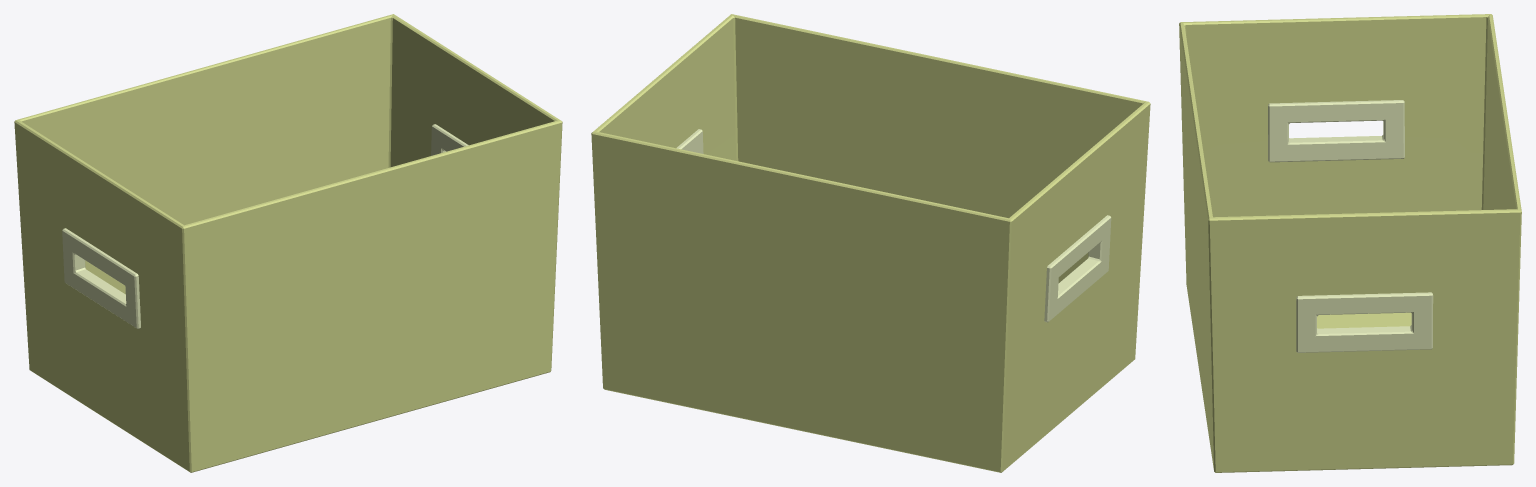
3 views of the same model, side by side, from view 1: azimuth 30°, elevation 25°; view 2: azimuth 150°, elevation 25°; view 3: azimuth 270°, elevation 25° (orthographic). The views are drawn at different scales.
Parts seen in each view (by area): view 1: file_box_3; view 2: file_box_3; view 3: file_box_3.
Part boxes in pixels (bbox=[...]): file_box_3: bbox=[14, 14, 562, 472]; file_box_3: bbox=[591, 14, 1150, 472]; file_box_3: bbox=[1179, 14, 1521, 472].
Bounding box in the file's own units: 0.4666 × 0.273 × 0.328.
